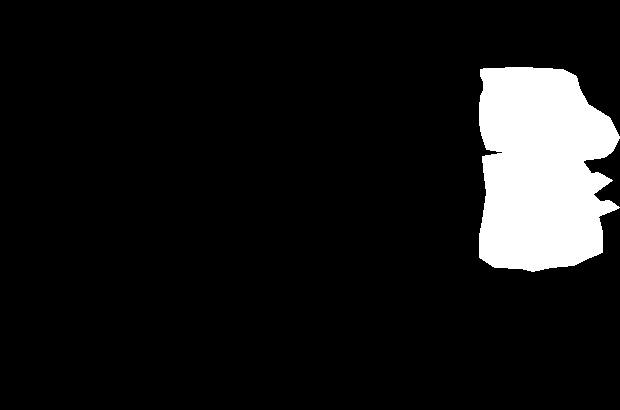type4: (470, 63, 620, 273)
